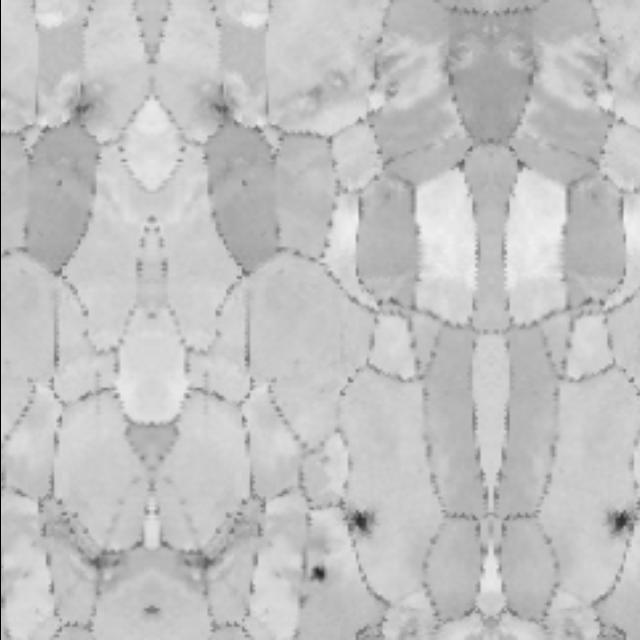good_void: (199, 74, 248, 145), (52, 74, 101, 145), (175, 542, 224, 588), (76, 542, 125, 588), (339, 505, 374, 540), (606, 505, 640, 540), (299, 561, 329, 589)
